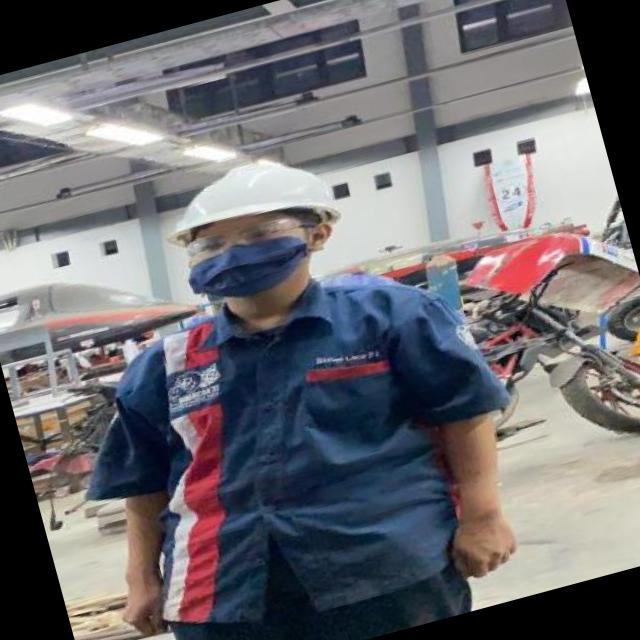hard_hat: (150, 124, 383, 250)
